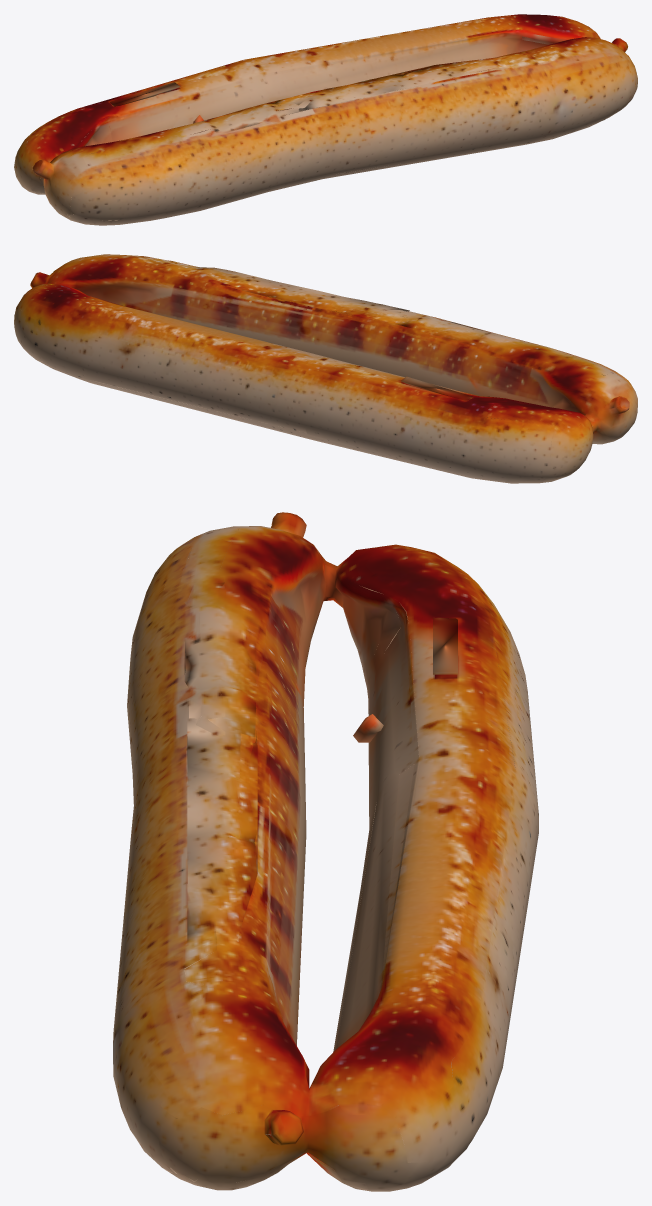
The picture shows the model from 3 angles, top to bottom: view 1: azimuth 30°, elevation 25°; view 2: azimuth 150°, elevation 25°; view 3: azimuth 270°, elevation 25°; orthographic projection. The views are drawn at different scales.
Visible parts, largest first — view 1: material; view 2: material; view 3: material.
Part boxes in pixels (<box>): material: <box>14,14,637,225</box>; material: <box>14,254,637,483</box>; material: <box>113,512,538,1191</box>.
Size of the model in its own units: 1.9 by 0.2875 by 0.5932.
1 material, 1 textured.
